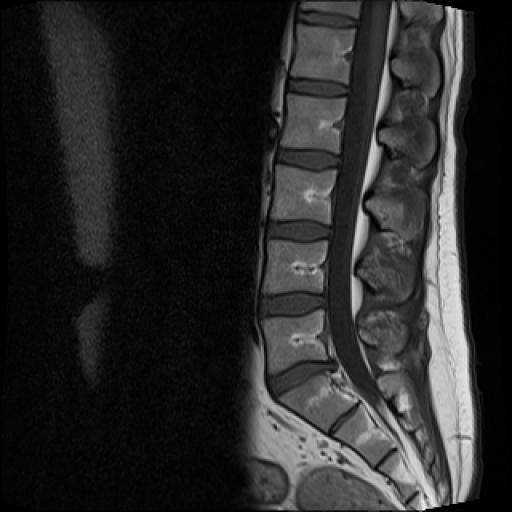L1: (290, 23, 356, 84)
L2: (280, 93, 346, 154)
L3: (270, 164, 337, 226)
L4: (262, 240, 326, 294)
L5: (262, 309, 329, 374)
S1: (279, 372, 358, 432)
